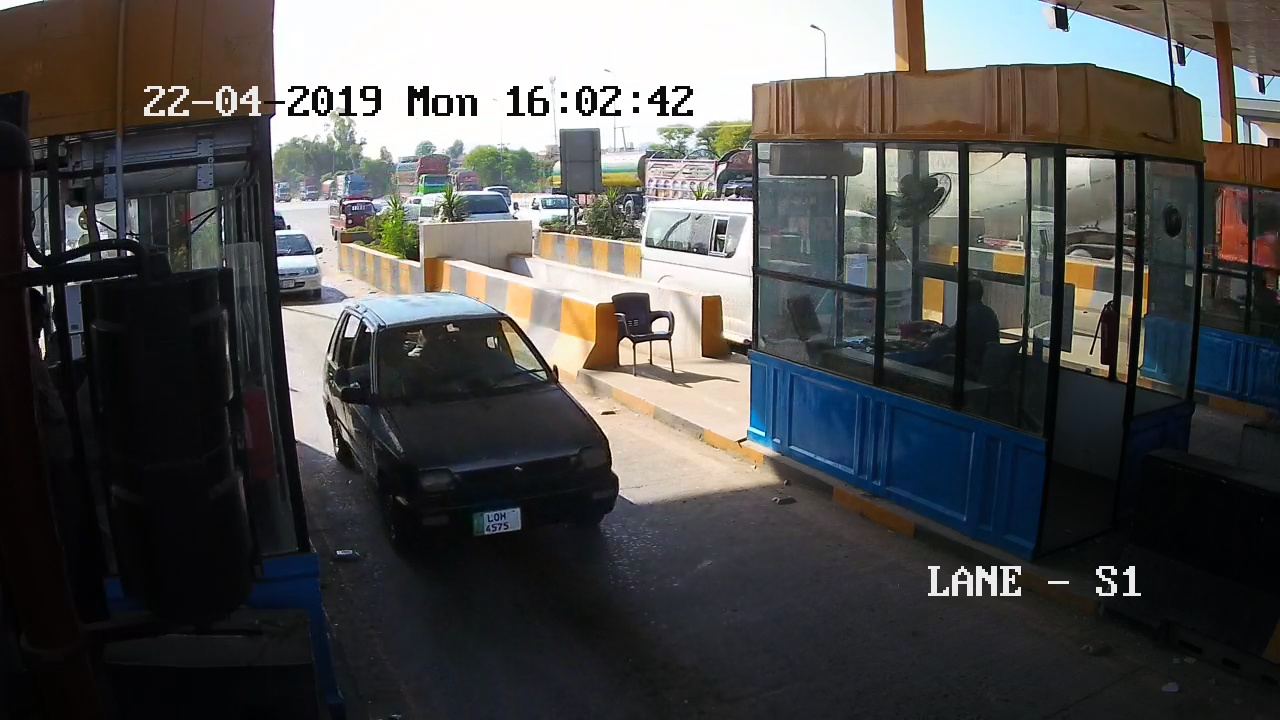car: (325, 302, 660, 587)
